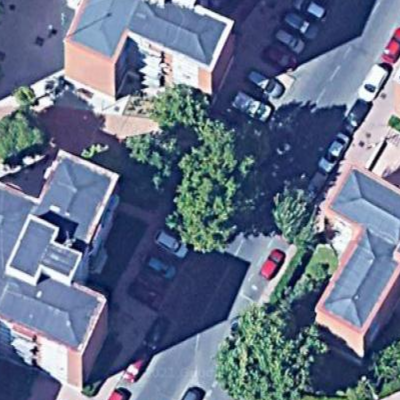tree: (219, 301, 316, 400), (174, 169, 244, 252), (1, 101, 56, 173), (123, 130, 183, 189), (152, 87, 219, 139), (271, 187, 320, 247)
